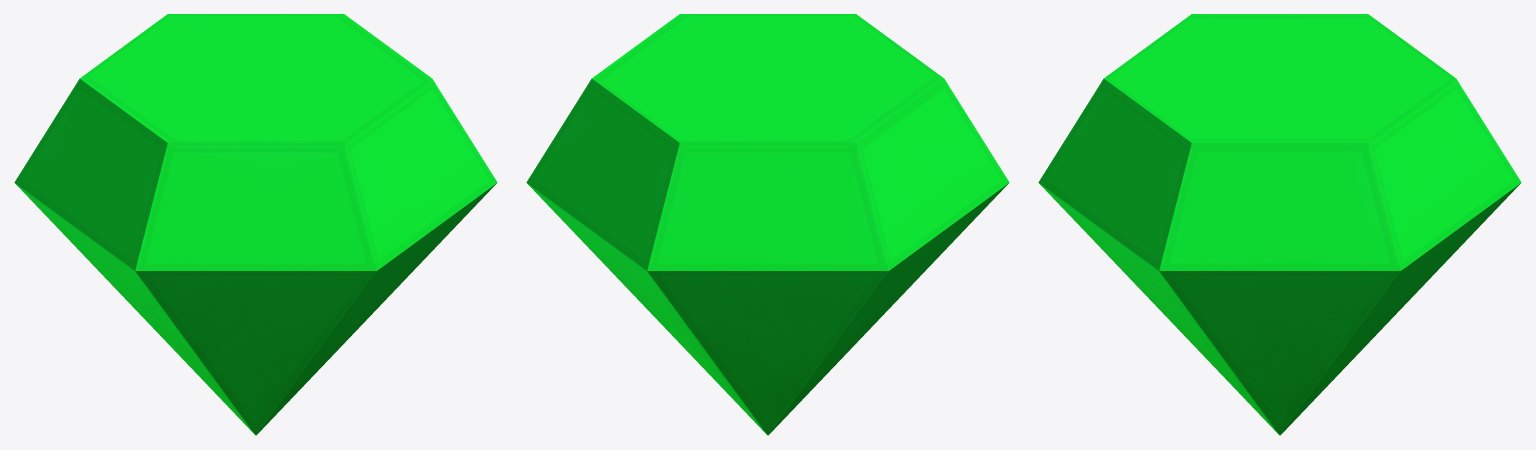
The model's file is crystal1-2tex.fbx.
The picture shows the model from 3 angles, left to right: view 1: azimuth 30°, elevation 25°; view 2: azimuth 150°, elevation 25°; view 3: azimuth 270°, elevation 25°; orthographic projection.
Parts seen in each view (by area): view 1: crystal1-2tex; view 2: crystal1-2tex; view 3: crystal1-2tex.
Boxes of the visible parts, x1=… form: crystal1-2tex: x1=14, y1=14, x2=497, y2=435; crystal1-2tex: x1=526, y1=14, x2=1009, y2=435; crystal1-2tex: x1=1038, y1=14, x2=1521, y2=435.
Bounding box in the file's own units: 0.3932 × 0.3706 × 0.4541.
